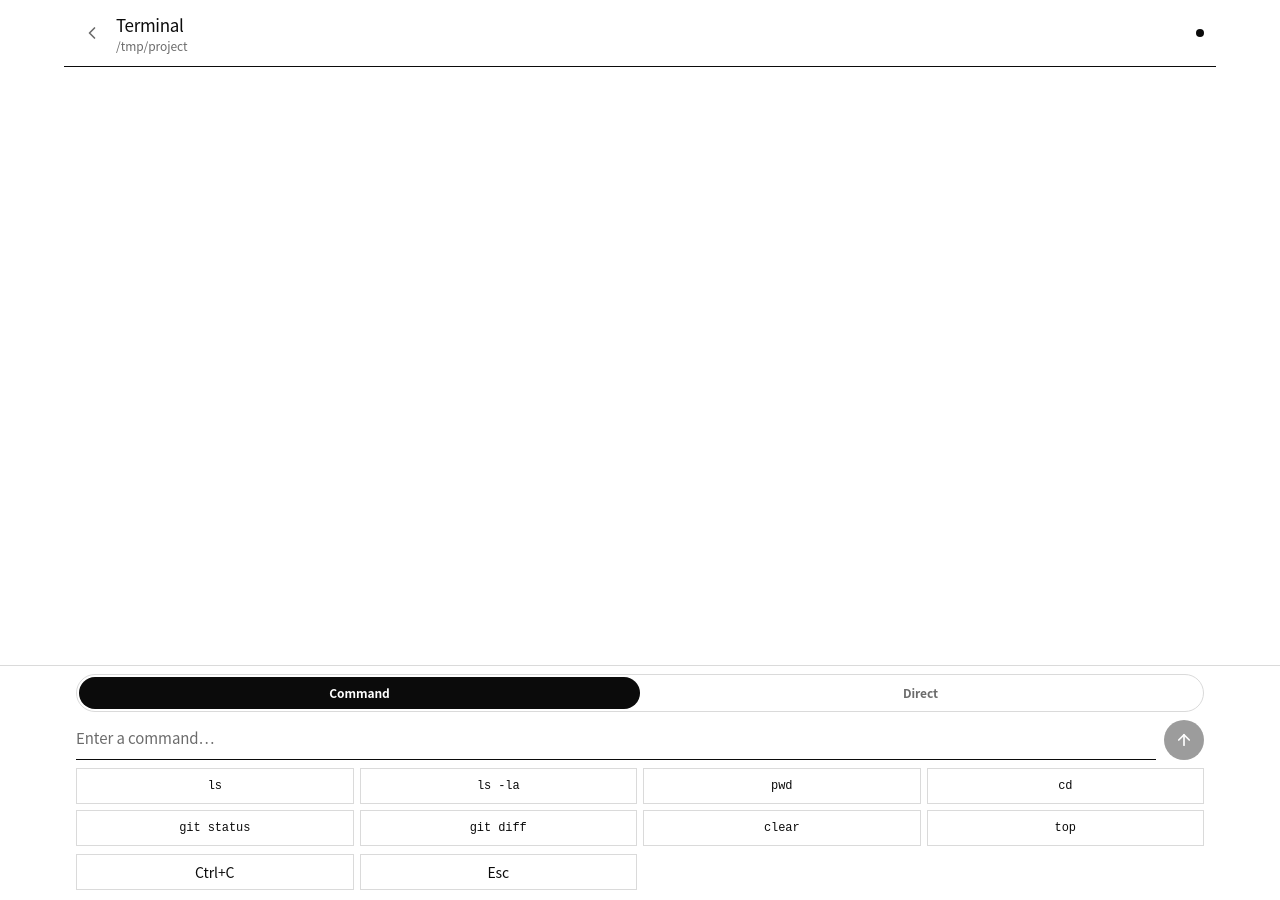
Scenario: TerminalPage compact command input › sends spaces and Chinese punctuation as one command
The image size is (1280, 900).
Type "printf '你好，世界！' && cd My Folder" into the text box named "Command input" at (616, 740), box left=76, top=720, right=1156, bottom=760
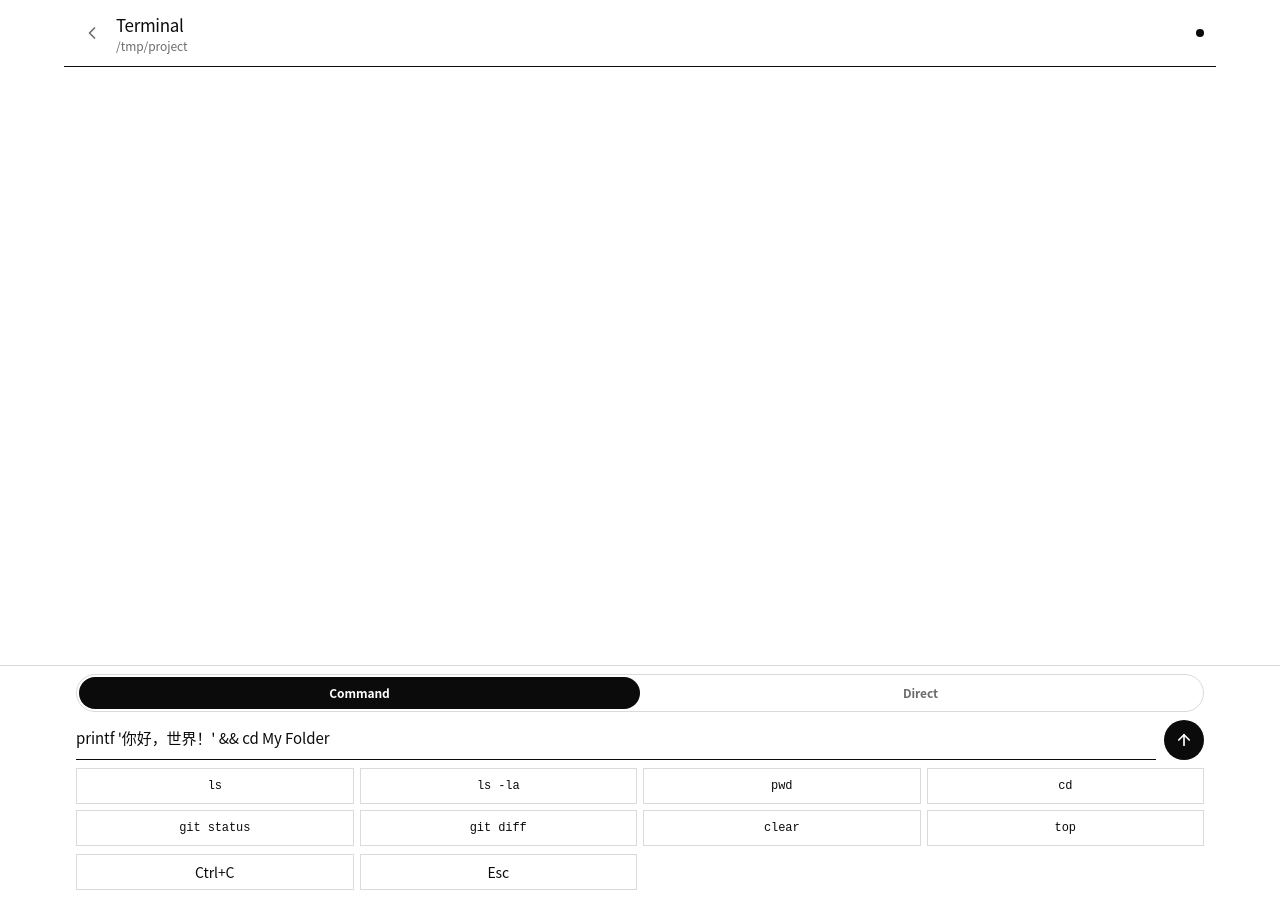
Press Enter in the text box named "Command input", box left=76, top=720, right=1156, bottom=760
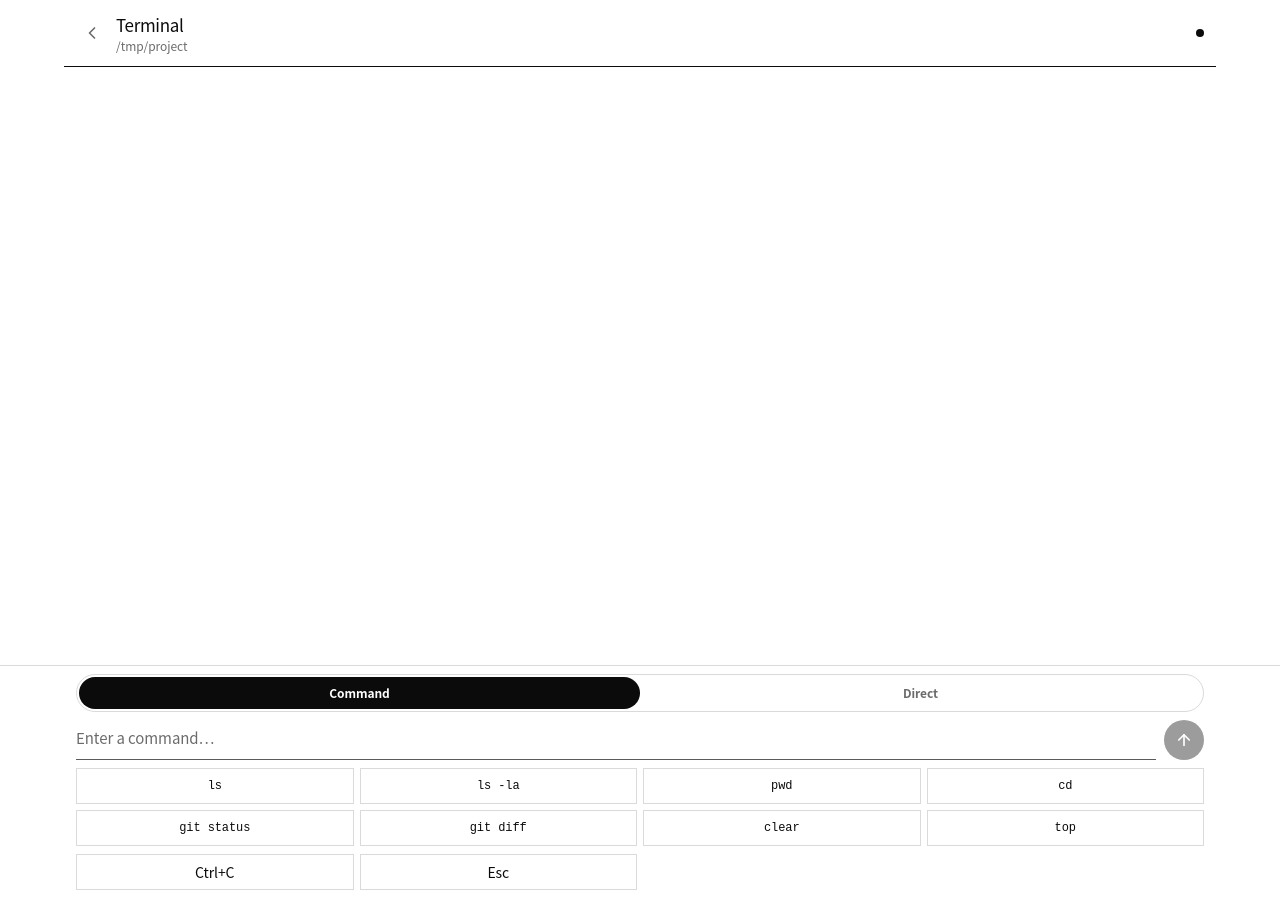
Check: the text box named "Command input" is empty, box left=76, top=720, right=1156, bottom=760
